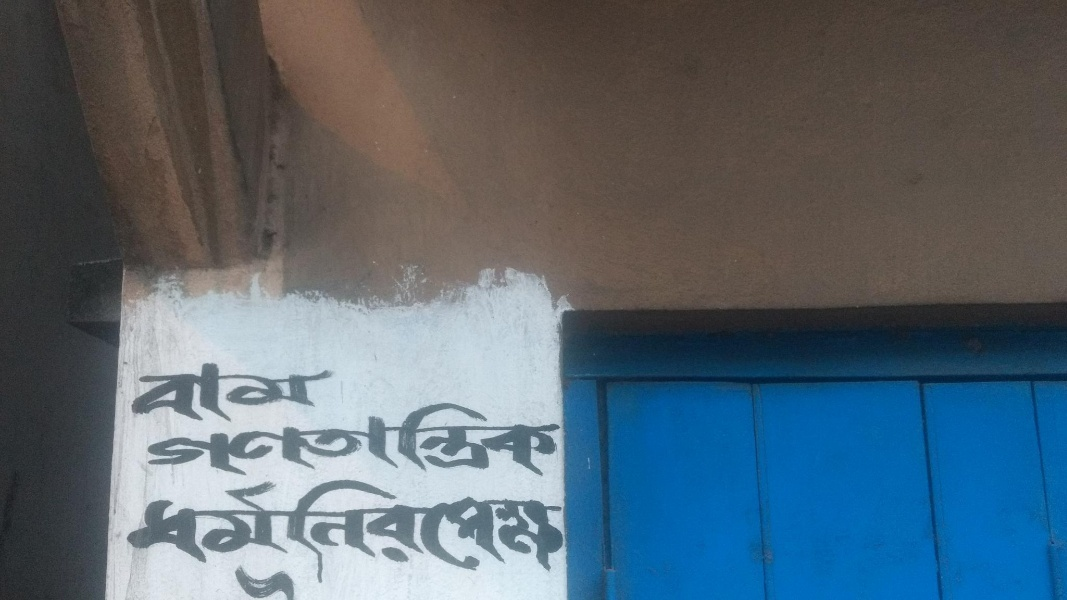text: (129, 464, 144, 573), (145, 464, 160, 573), (161, 464, 176, 573), (177, 464, 192, 573), (193, 464, 208, 573), (209, 464, 224, 573), (225, 464, 240, 573), (241, 464, 256, 573), (257, 464, 272, 573), (273, 464, 288, 573), (289, 464, 304, 573), (305, 464, 320, 573), (321, 464, 336, 573), (337, 464, 352, 573), (353, 464, 368, 573), (369, 464, 384, 573), (385, 464, 400, 573), (401, 464, 416, 573), (417, 464, 432, 573), (433, 464, 448, 573), (449, 464, 464, 573), (465, 464, 480, 573), (481, 464, 496, 573), (497, 464, 512, 573), (513, 464, 528, 573), (529, 464, 544, 573), (545, 464, 560, 573), (161, 397, 176, 481), (177, 397, 192, 481), (193, 397, 208, 481), (209, 397, 224, 481), (225, 397, 240, 481), (241, 397, 256, 481), (257, 397, 272, 481), (273, 397, 288, 481), (289, 397, 304, 481), (305, 397, 320, 481), (321, 397, 336, 481), (337, 397, 352, 481), (353, 397, 368, 481), (369, 397, 384, 481), (385, 397, 400, 481), (401, 397, 416, 481), (417, 397, 432, 481), (433, 397, 448, 481), (449, 397, 464, 481), (465, 397, 480, 481), (481, 397, 496, 481), (497, 397, 512, 481), (513, 397, 528, 481), (529, 397, 544, 481), (545, 397, 560, 481), (147, 397, 160, 481), (145, 361, 160, 427), (161, 361, 176, 427), (177, 361, 192, 427), (193, 361, 208, 427), (209, 361, 224, 427), (225, 361, 240, 427), (241, 361, 256, 427), (257, 361, 272, 427), (273, 361, 288, 427), (289, 361, 304, 427), (305, 361, 320, 427), (321, 361, 336, 427), (561, 464, 568, 573), (133, 361, 144, 427), (225, 559, 240, 595), (241, 559, 256, 595), (257, 559, 272, 595), (273, 559, 288, 595), (289, 559, 304, 595), (126, 464, 128, 573), (561, 397, 563, 481)
